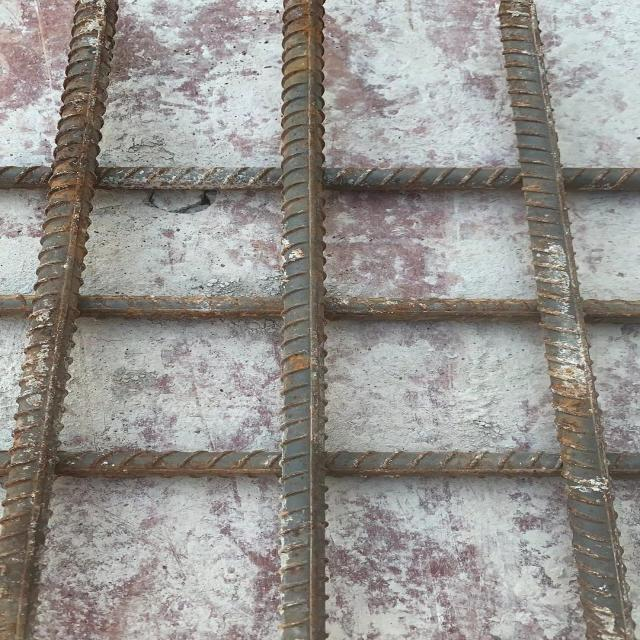ribbed bar: (489, 0, 639, 639), (0, 0, 119, 639), (279, 0, 327, 639), (0, 448, 639, 480), (0, 164, 639, 193), (0, 293, 639, 322)
